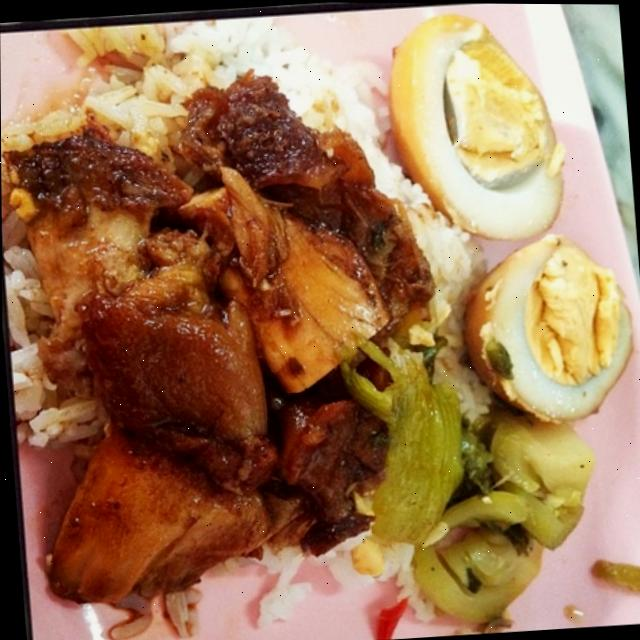猪肉菜式: (0, 19, 468, 629)
